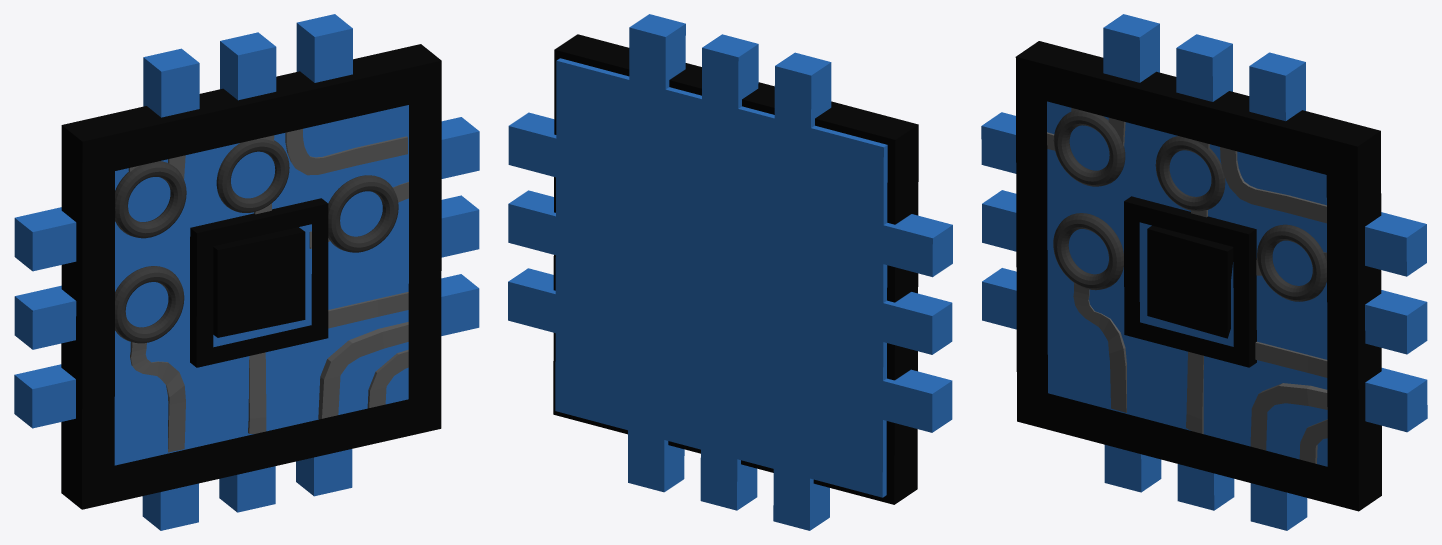
The model's file is chip11.gltf.
The picture shows the model from 3 angles, left to right: view 1: azimuth 30°, elevation 25°; view 2: azimuth 150°, elevation 25°; view 3: azimuth 330°, elevation 25°; orthographic projection.
Parts seen in each view (by area): view 1: Cube, Cube2, Cube1, Torus, Cube3, Cube4; view 2: Cube, Cube2; view 3: Cube, Cube2, Torus, Cube1, Cube3, Cube4.
Part boxes in pixels (box(x1,y1,x2,y2)): Cube: box(14, 14, 479, 530); Cube2: box(61, 44, 441, 509); Cube1: box(128, 129, 408, 452); Torus: box(115, 139, 398, 343); Cube3: box(190, 198, 328, 367); Cube4: box(213, 227, 305, 337); Cube: box(508, 14, 952, 530); Cube2: box(553, 34, 918, 504); Cube: box(981, 14, 1427, 530); Cube2: box(1015, 41, 1381, 511); Torus: box(1053, 110, 1326, 301); Cube1: box(1047, 108, 1327, 463); Cube3: box(1124, 196, 1256, 367); Cube4: box(1147, 225, 1233, 338).
Size of the model in its own units: 2.6 by 2.6 by 0.351.
